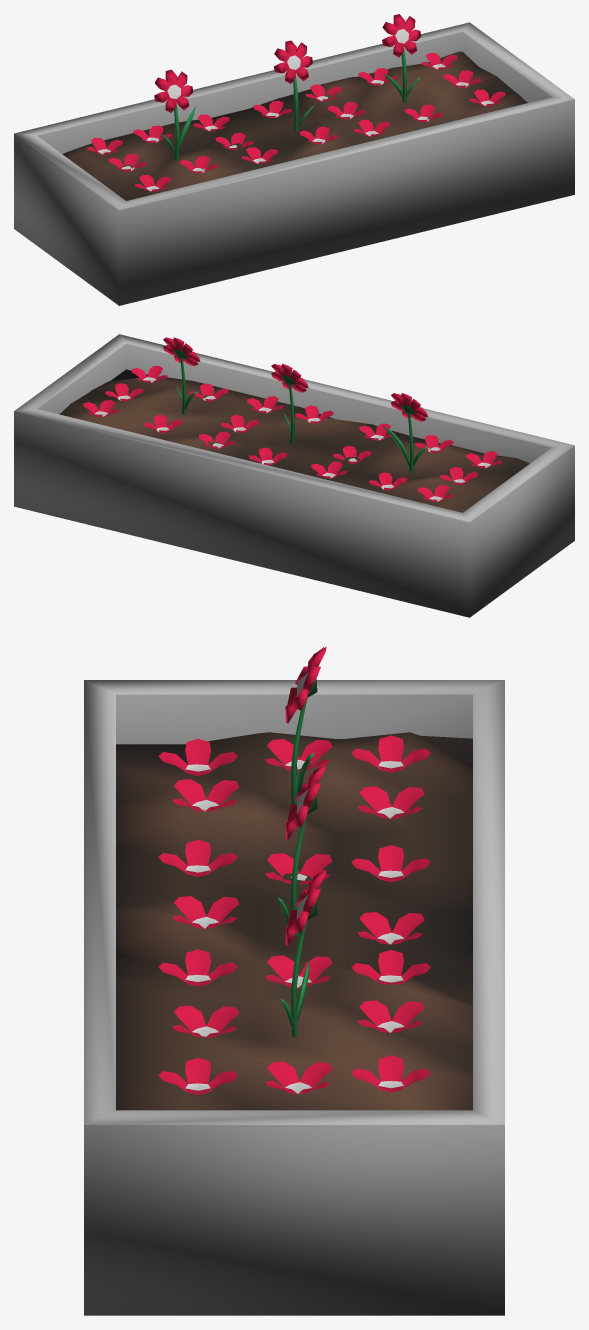
Rendered from furnishings-outdoor-concreteflowerbed_v1.glb.
3 renders of one model, top to bottom at view 1: azimuth 30°, elevation 25°; view 2: azimuth 150°, elevation 25°; view 3: azimuth 270°, elevation 25°, orthographic. The views are drawn at different scales.
Visible parts, largest first — view 1: ConcreteFlowerBed_base, ConcreteFlowerBed_color; view 2: ConcreteFlowerBed_base, ConcreteFlowerBed_color; view 3: ConcreteFlowerBed_base, ConcreteFlowerBed_color.
Boxes of the visible parts, box(x1,y1,x2,y2) form: ConcreteFlowerBed_base: box(14, 22, 574, 305); ConcreteFlowerBed_color: box(86, 14, 505, 191); ConcreteFlowerBed_base: box(14, 334, 574, 617); ConcreteFlowerBed_color: box(83, 337, 501, 501); ConcreteFlowerBed_base: box(84, 679, 504, 1315); ConcreteFlowerBed_color: box(158, 646, 430, 1094).
Bounding box in the file's own units: 1.82 × 0.6293 × 0.7294.
